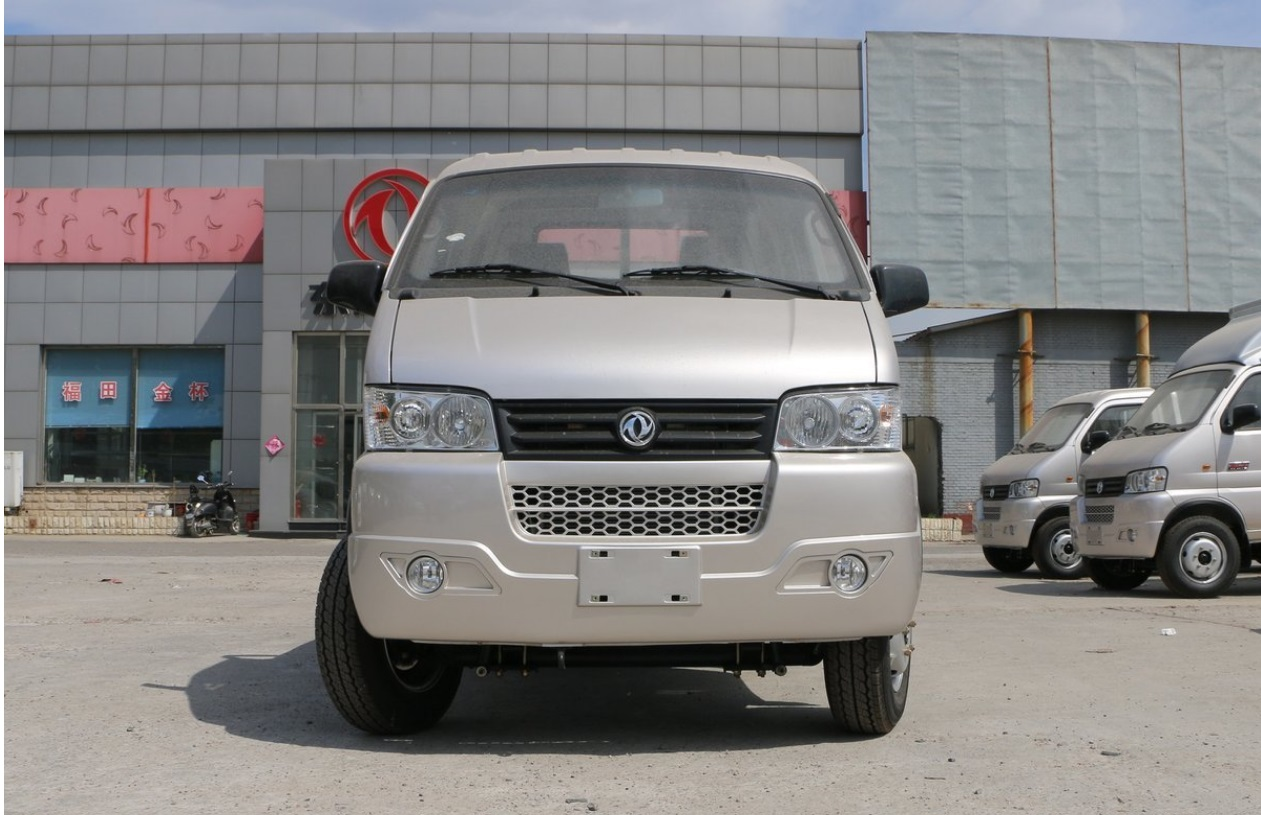truck: (311, 148, 932, 751)
